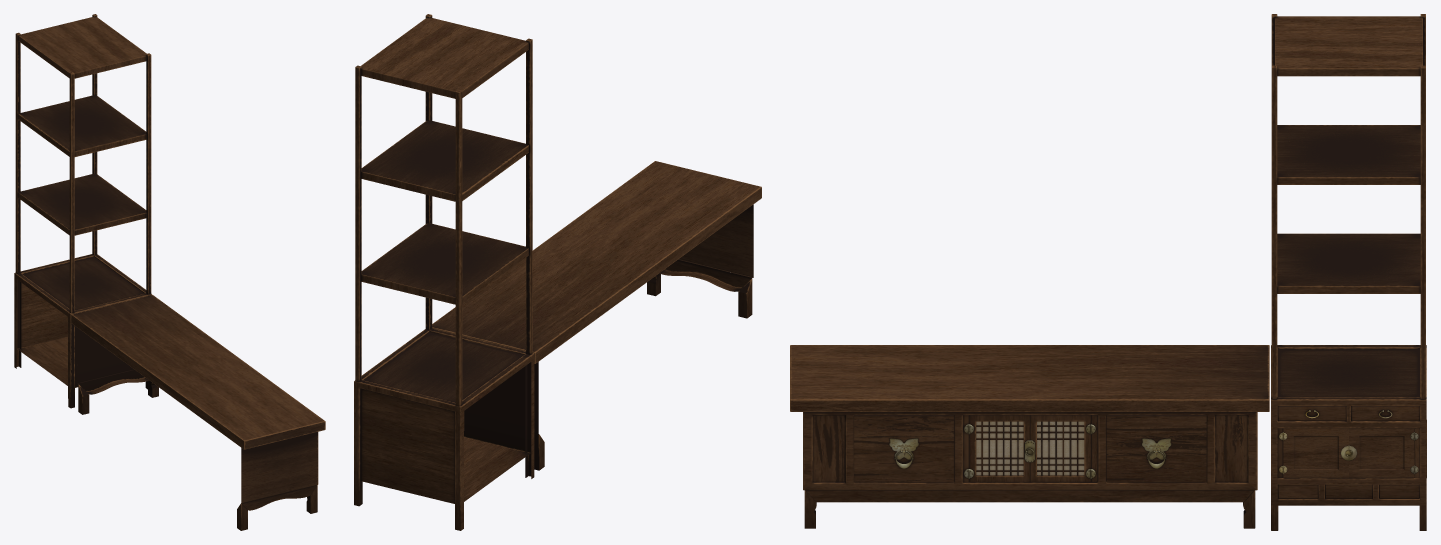
Rendered from TraditionalKoreanHouse_CabinetA.fbx.
The picture shows the model from 3 angles, left to right: view 1: azimuth 30°, elevation 25°; view 2: azimuth 150°, elevation 25°; view 3: azimuth 270°, elevation 25°; orthographic projection. The views are drawn at different scales.
Parts seen in each view (by area): view 1: TraditionalKoreanHouse_CabinetA; view 2: TraditionalKoreanHouse_CabinetA; view 3: TraditionalKoreanHouse_CabinetA.
Part boxes in pixels (x1=…): TraditionalKoreanHouse_CabinetA: x1=14, y1=14, x2=325, y2=530; TraditionalKoreanHouse_CabinetA: x1=354, y1=14, x2=761, y2=530; TraditionalKoreanHouse_CabinetA: x1=790, y1=14, x2=1426, y2=530.
Size of the model in its own units: 41.66 by 161 by 200.
